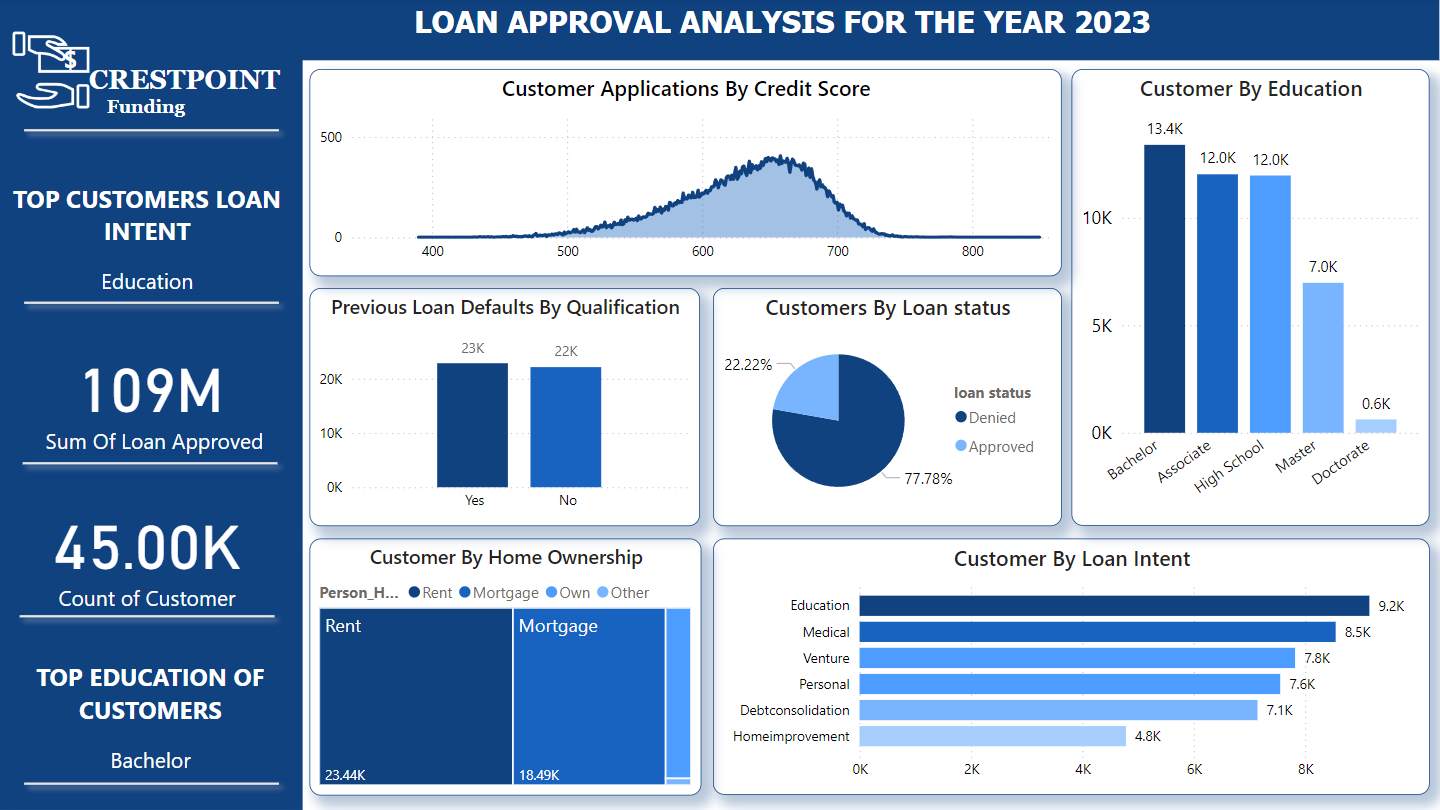

Layout of this report page (visuals, bound fields, positions):
{"tool":"powerbi","page":{"name":"Page 1","canvas":[1280,720],"ordinal":0},"visuals":[{"type":"pieChart","title":"Customers By Loan status","fields":{"Category":["loan_data (2).loan status"],"Y":["CountNonNull(loan_data (2).Customer)"]},"box":[636.9,257.2,308.4,210.6],"z":0},{"type":"card","title":"Sum Of Approved","fields":{"Values":["Sum(loan_data (2).loan_amnt)"]},"box":[3,302.7,271.7,76.7],"z":0,"group":"g1"},{"type":"textbox","box":[0,0,1279.5,56],"z":1000},{"type":"shape","box":[18,387.7,243.3,50],"z":1000,"group":"g1"},{"type":"shape","box":[15,85,243.3,50],"z":2000},{"type":"textbox","box":[21.3,374.4,243.3,43.3],"z":2000,"group":"g1"},{"type":"shape","box":[1.5,33.3,272.6,685.9],"z":3000},{"type":"clusteredBarChart","title":"Customer By Loan Intent ","fields":{"Category":["loan_data (2).Loan Intent"],"Y":["CountNonNull(loan_data (2).Customer)"]},"box":[636.9,479,634.2,226.9],"z":4000},{"type":"treemap","title":"Customer By Home Ownership","fields":{"Group":["loan_data (2).Person_Home_Ownership"],"Values":["CountNonNull(loan_data (2).Customer)"]},"box":[280.1,479.6,346.8,227.5],"z":5000},{"type":"clusteredColumnChart","title":"Customer By Education","fields":{"Category":["loan_data (2).person_education"],"Y":["CountNonNull(loan_data (2).Customer)"]},"box":[953.7,63.6,316.8,404.1],"z":6000},{"type":"shape","box":[15,523.3,243.3,50],"z":7000,"group":"g3"},{"type":"shape","box":[18.3,676.7,243.3,38.3],"z":7000},{"type":"group","id":"g1","title":"Group 1","box":[3,302.7,271.7,135],"z":8000},{"type":"textbox","box":[0,581.7,278.3,125],"z":9000},{"type":"shape","box":[18.3,93.3,243.3,50],"z":10000},{"type":"card","fields":{"Values":["Count(loan_data (2).Customer)"]},"box":[0,423.3,271.7,136.7],"z":10000,"group":"g3"},{"type":"clusteredColumnChart","title":"Previous Loan Defaults By Qualification","fields":{"Category":["loan_data (2).previous loan defaults"],"Y":["CountNonNull(loan_data (2).person_education)"]},"box":[280.1,257.2,345.1,210.6],"z":11000},{"type":"group","id":"g2","title":"Group 2","box":[11.7,15.9,106,96.9],"z":12000},{"type":"textbox","box":[80,55,185,55],"z":13000},{"type":"image","box":[11.7,15.9,78.2,96.9],"z":14000,"group":"g2"},{"type":"textbox","box":[95,81.7,150,36.7],"z":14000},{"type":"textbox","box":[56.7,35,60.9,45.5],"z":15000,"group":"g2"},{"type":"shape","box":[18.3,245,243.3,50],"z":15000},{"type":"group","id":"g3","title":"Group 3","box":[0,423.3,271.7,150],"z":16000},{"type":"textbox","box":[1.7,158.3,270,118.3],"z":17000},{"type":"areaChart","title":"Customer Applications By Credit Score","fields":{"Category":["loan_data (2).credit score"],"Y":["CountNonNull(loan_data (2).Customer)"]},"box":[280.1,63.6,665.2,183.4],"z":18000}]}

Visuals, with their boxes in screenshot pixels (x1, y1, x2, y2), scaled from the page's 1280x720 canvas onto the 1440x810 screenshot:
"Customers By Loan status" pieChart: detection(717, 289, 1063, 526)
"Sum Of Approved" card: detection(3, 341, 309, 427)
textbox: detection(0, 0, 1439, 63)
shape: detection(20, 436, 294, 492)
shape: detection(17, 96, 291, 152)
textbox: detection(24, 421, 298, 470)
shape: detection(2, 37, 308, 809)
"Customer By Loan Intent " clusteredBarChart: detection(717, 539, 1430, 794)
"Customer By Home Ownership" treemap: detection(315, 540, 705, 795)
"Customer By Education" clusteredColumnChart: detection(1073, 72, 1429, 526)
shape: detection(17, 589, 291, 645)
shape: detection(21, 761, 294, 804)
"Group 1" group: detection(3, 341, 309, 492)
textbox: detection(0, 654, 313, 795)
shape: detection(21, 105, 294, 161)
card - Count(loan_data (2).Customer): detection(0, 476, 306, 630)
"Previous Loan Defaults By Qualification" clusteredColumnChart: detection(315, 289, 703, 526)
"Group 2" group: detection(13, 18, 132, 127)
textbox: detection(90, 62, 298, 124)
image: detection(13, 18, 101, 127)
textbox: detection(107, 92, 276, 133)
textbox: detection(64, 39, 132, 91)
shape: detection(21, 276, 294, 332)
"Group 3" group: detection(0, 476, 306, 645)
textbox: detection(2, 178, 306, 311)
"Customer Applications By Credit Score" areaChart: detection(315, 72, 1063, 278)
